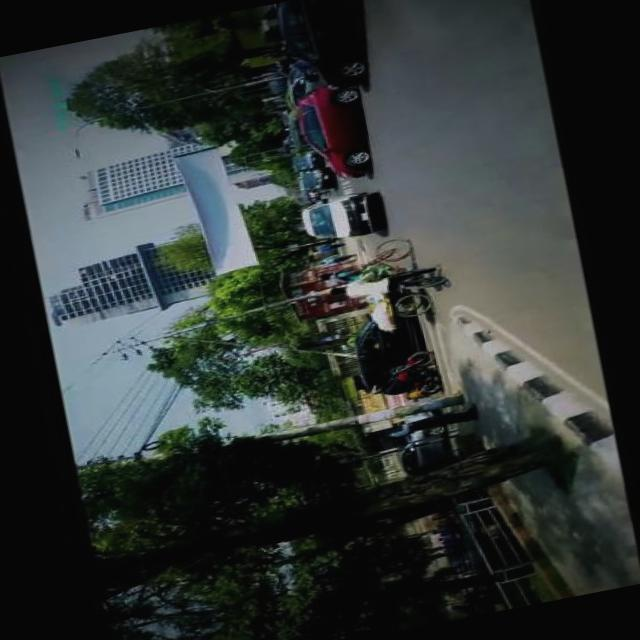car: (270, 0, 369, 99), (287, 76, 372, 185), (346, 310, 420, 396), (387, 407, 445, 474), (292, 164, 332, 193)
motorcycle: (386, 346, 440, 401)
truck: (294, 188, 380, 246)
